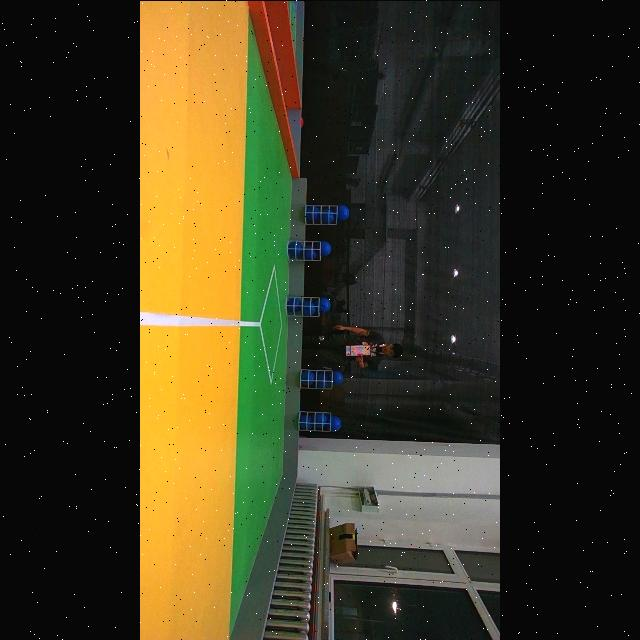B: (332, 204, 348, 220), (327, 414, 341, 430), (288, 240, 302, 256), (321, 208, 335, 224), (302, 298, 314, 316), (313, 413, 327, 427), (302, 371, 316, 385), (316, 298, 330, 312), (303, 244, 317, 258), (317, 372, 329, 388), (287, 296, 299, 312), (318, 240, 330, 256), (307, 204, 319, 220), (331, 370, 342, 386), (300, 414, 312, 428)
S: (286, 294, 330, 318), (305, 202, 349, 225), (299, 409, 341, 433), (288, 238, 330, 262), (300, 368, 342, 390)
